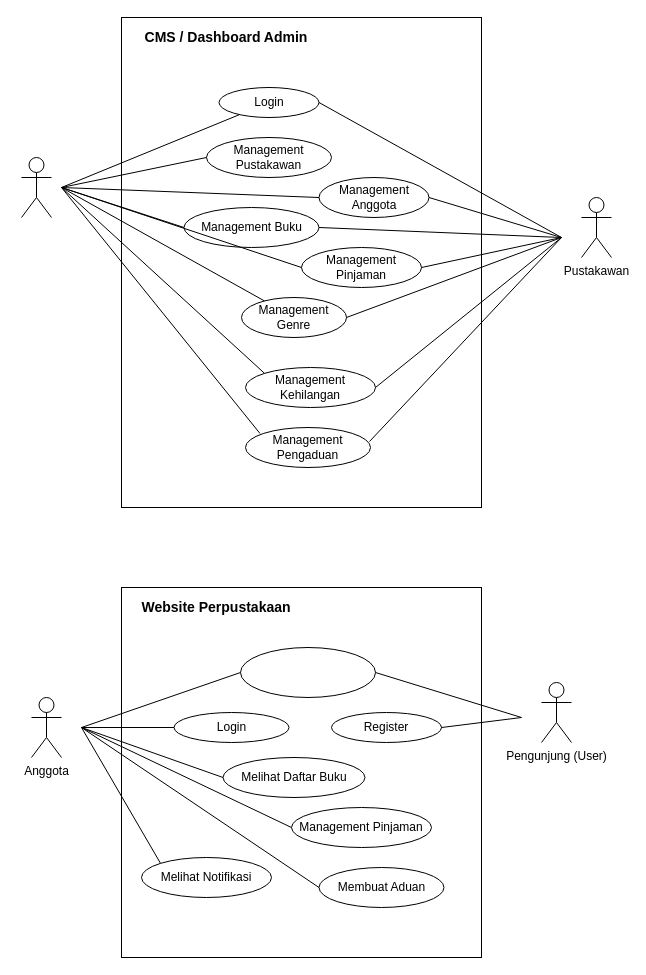
Image size: 646x975. Some labels were removed from this diagram. The shapes that lost their labels are listed below. From the top down, each one's centre as x and y in pixels, then its label:
the point at 36,187: Pemilik
the point at 308,672: Melihat Informasi Perpustakaan
